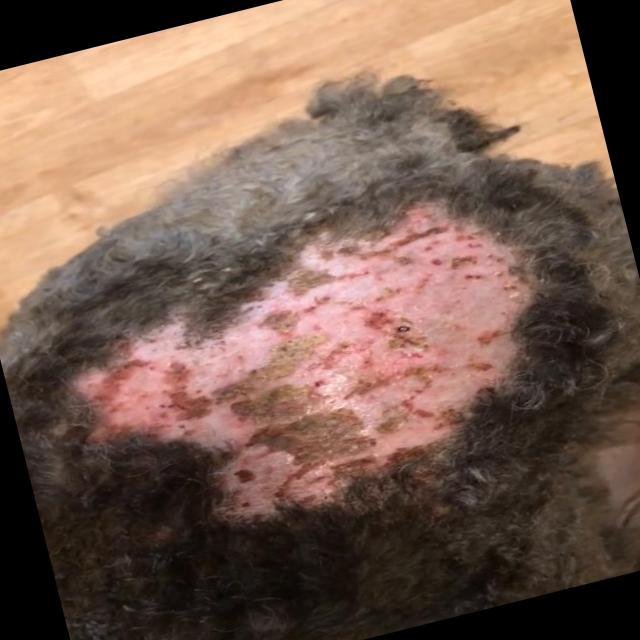allergic dermatitis: (74, 202, 535, 509)
